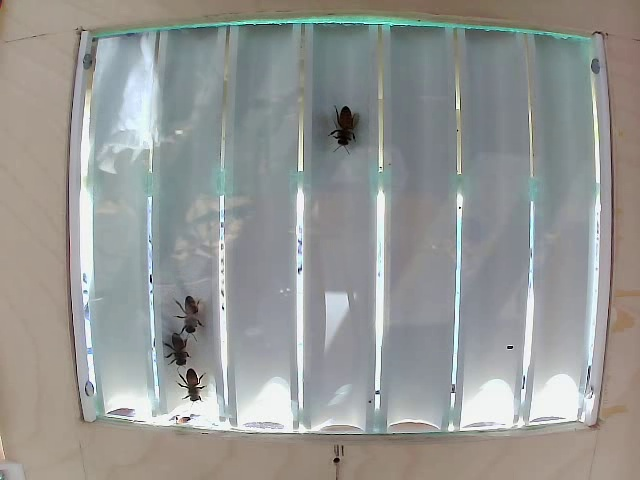bee: (328, 122, 372, 171), (178, 282, 222, 330), (164, 334, 195, 370), (177, 371, 208, 407)
